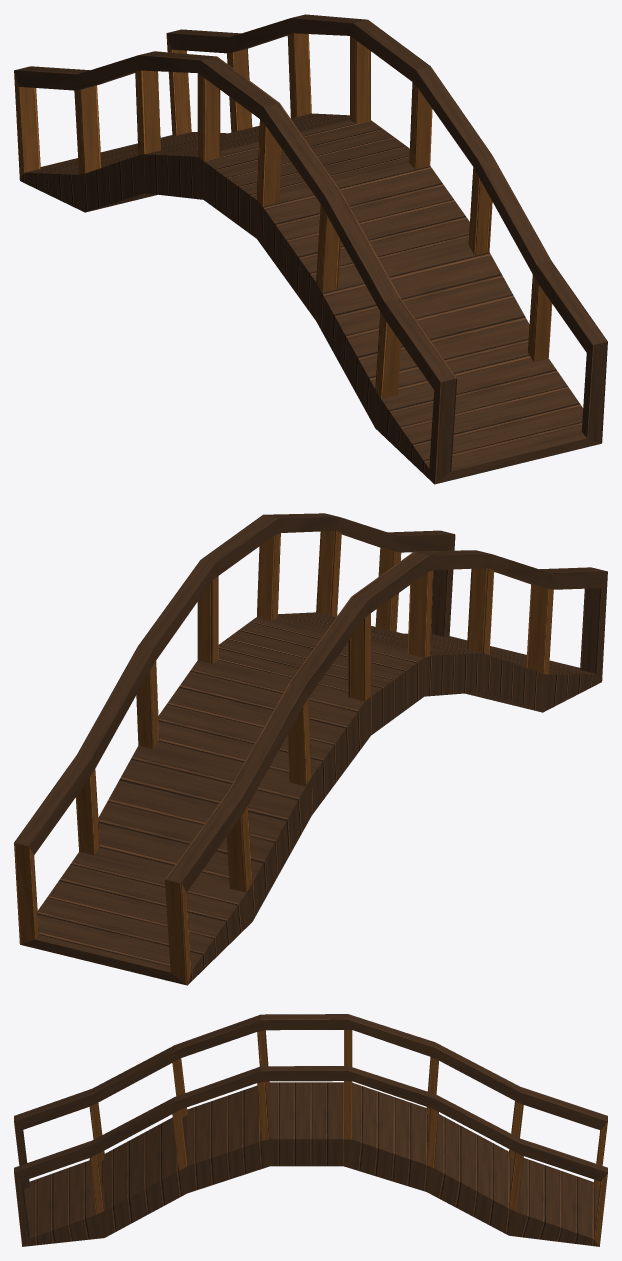
Rendered from co_Bridge4.fbx.
3 renders of one model, top to bottom at view 1: azimuth 30°, elevation 25°; view 2: azimuth 150°, elevation 25°; view 3: azimuth 270°, elevation 25°, orthographic. The views are drawn at different scales.
Parts seen in each view (by area): view 1: Bridge4; view 2: Bridge4; view 3: Bridge4.
Boxes of the visible parts, left/top/right/bottom form: Bridge4: left=14, top=14, right=607, bottom=484; Bridge4: left=14, top=513, right=607, bottom=985; Bridge4: left=14, top=1014, right=607, bottom=1246.
Size of the model in its own units: 789 by 1137 by 3478.
